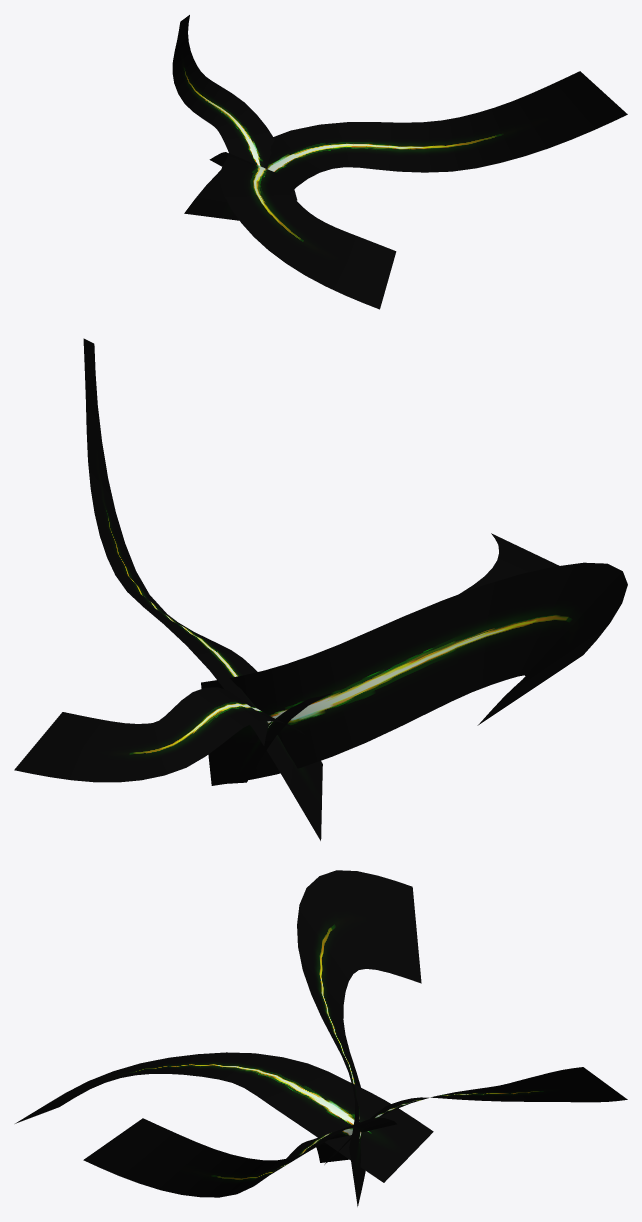
The model's file is shou.FBX.
3 views of the same model, one above another, from view 1: azimuth 30°, elevation 25°; view 2: azimuth 150°, elevation 25°; view 3: azimuth 270°, elevation 25° (orthographic). The views are drawn at different scales.
Parts seen in each view (by area): view 1: shou; view 2: shou; view 3: shou.
Part boxes in pixels (x1,y1,x2,y2): shou: (172,15,627,309); shou: (14,338,627,840); shou: (15,870,627,1206).
Bounding box in the file's own units: 4043 × 1531 × 4239.
Materials: 1 (1 with a texture image).
